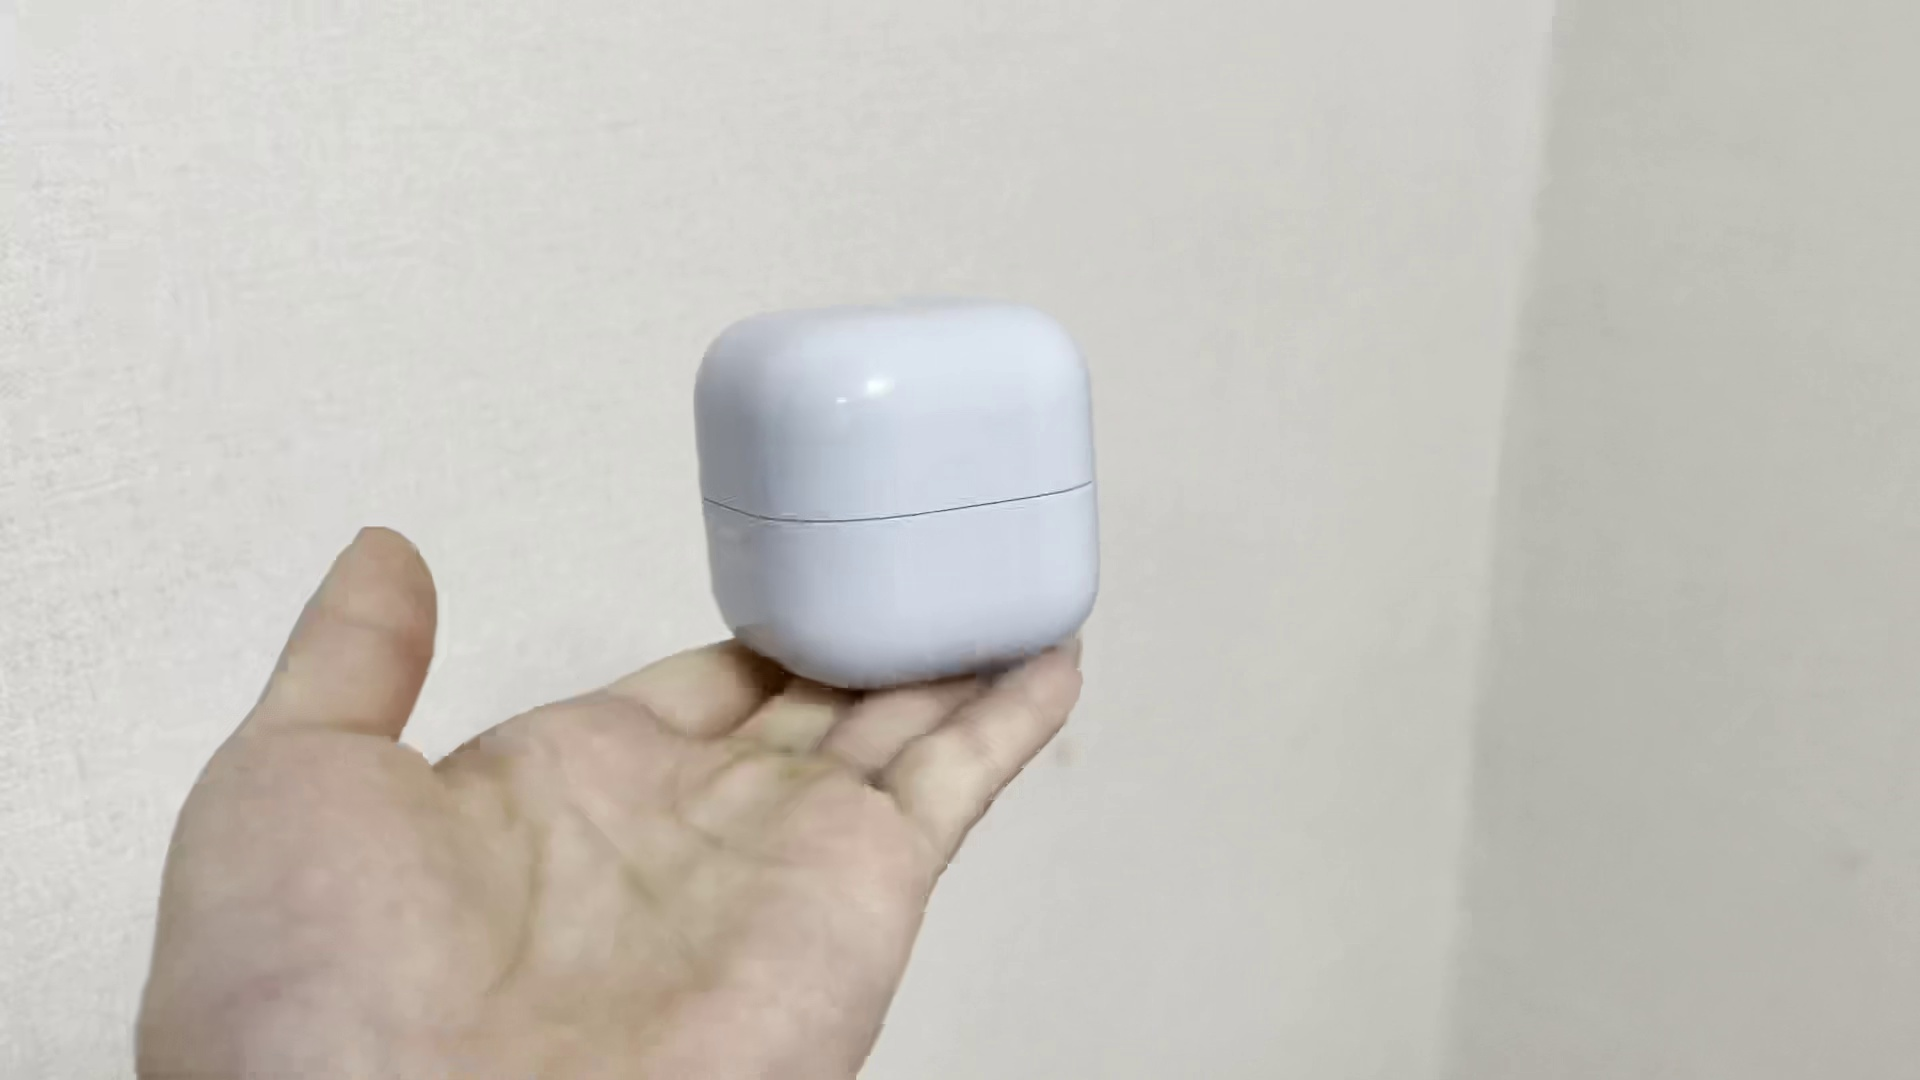cream: (696, 298, 1102, 690)
